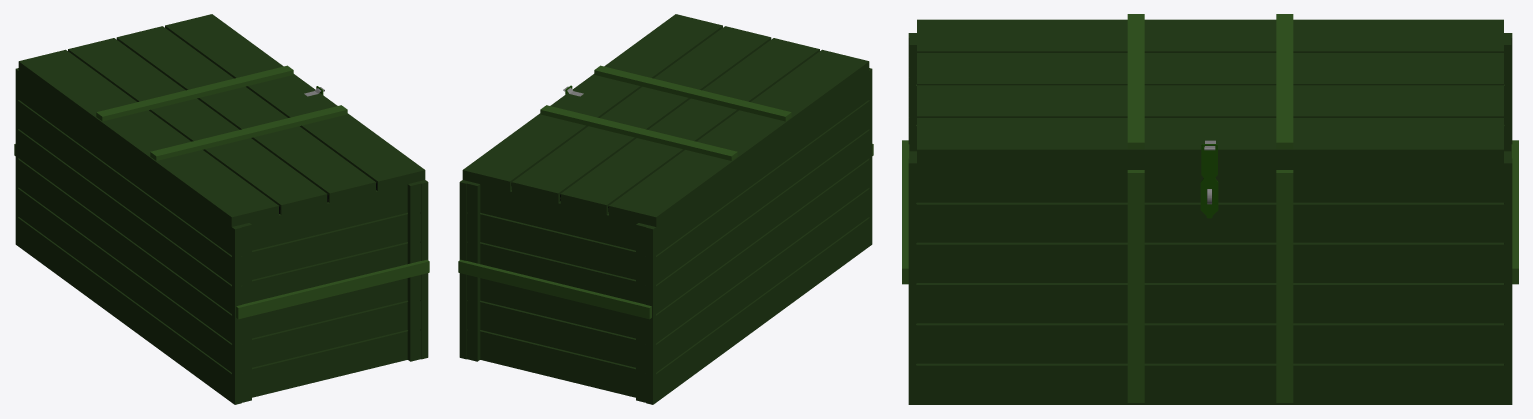
Rendered from NEWGAME_VOENI BOX.fbx.
3 renders of one model, left to right at view 1: azimuth 30°, elevation 25°; view 2: azimuth 150°, elevation 25°; view 3: azimuth 270°, elevation 25°, orthographic. The views are drawn at different scales.
Visible parts, largest first — view 1: Cube.084, Cube.085, Cube.087, Cube.086; view 2: Cube.084, Cube.085, Cube.087, Cube.086; view 3: Cube.084, Cube.085, Cube.088, Cube.087, Cube.086, Plane.029.
Boxes of the visible parts, x1=… form: Cube.084: x1=15, y1=68, x2=428, y2=404; Cube.085: x1=18, y1=14, x2=425, y2=226; Cube.087: x1=96, y1=65, x2=347, y2=160; Cube.086: x1=14, y1=144, x2=429, y2=319; Cube.084: x1=459, y1=68, x2=872, y2=404; Cube.085: x1=462, y1=14, x2=869, y2=226; Cube.087: x1=540, y1=65, x2=791, y2=160; Cube.086: x1=458, y1=144, x2=873, y2=319; Cube.084: x1=908, y1=33, x2=1512, y2=404; Cube.085: x1=917, y1=19, x2=1503, y2=163; Cube.088: x1=1127, y1=170, x2=1293, y2=402; Cube.087: x1=1127, y1=14, x2=1293, y2=148; Cube.086: x1=902, y1=140, x2=1518, y2=284; Plane.029: x1=1200, y1=144, x2=1218, y2=218.
Bounding box in the file's own units: 579 × 529 × 1129.
